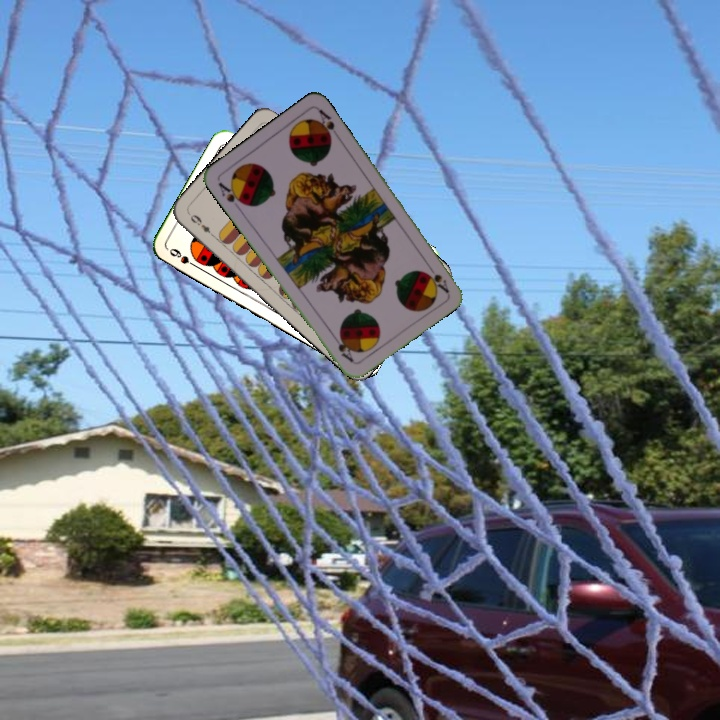E9: (186, 210, 218, 240)
S9: (165, 244, 203, 271)
SA: (214, 178, 248, 208), (423, 259, 451, 295)
